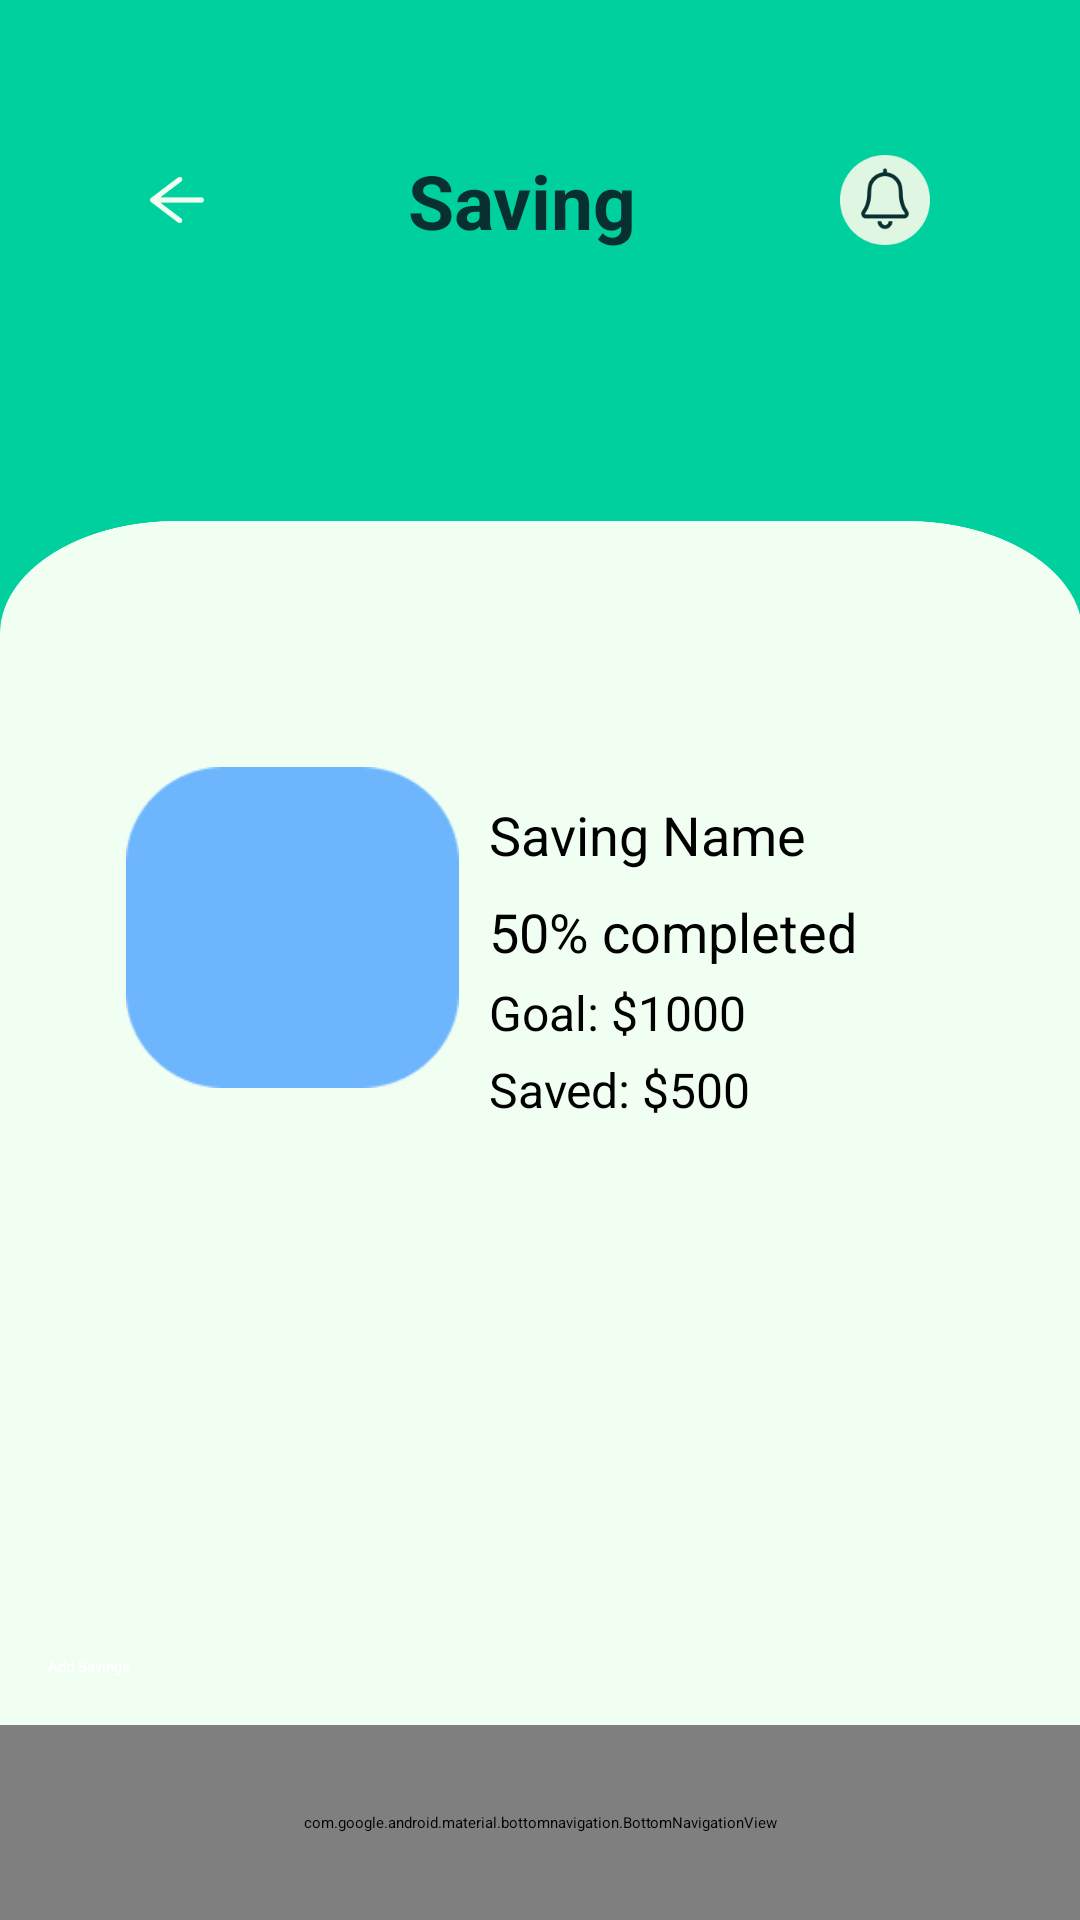

Where to tap for icons on this 1080×1920 app screen, as (x=x, y=y):
Back Icon: (x=177, y=200)
Notification Icon: (x=885, y=200)
